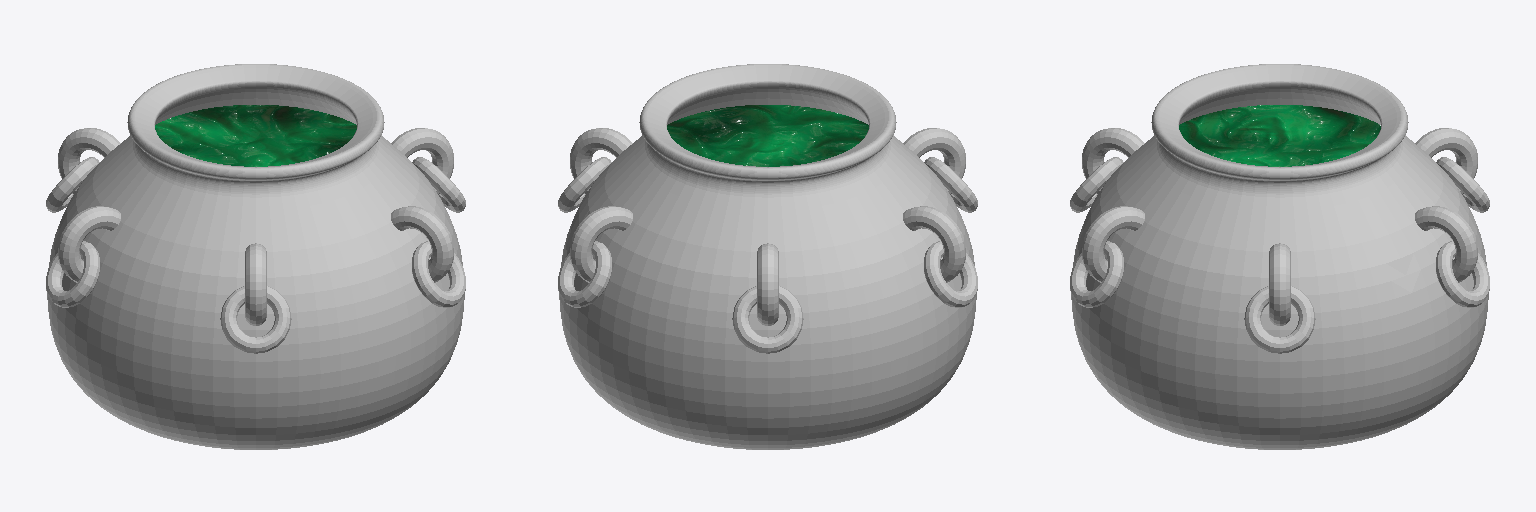
3 renders of one model, left to right at view 1: azimuth 30°, elevation 25°; view 2: azimuth 150°, elevation 25°; view 3: azimuth 270°, elevation 25°, orthographic.
Visible parts, largest first — view 1: Cauldron; view 2: Cauldron; view 3: Cauldron.
Boxes of the visible parts, x1=… form: Cauldron: x1=46, y1=64, x2=465, y2=449; Cauldron: x1=558, y1=64, x2=977, y2=449; Cauldron: x1=1070, y1=64, x2=1489, y2=449.
Size of the model in its own units: 13.9 by 9.11 by 12.41.
Materials: 2 (1 with a texture image).